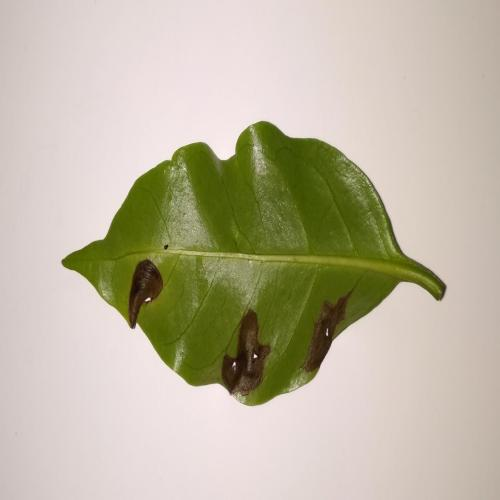miner: (129, 259, 163, 327)
